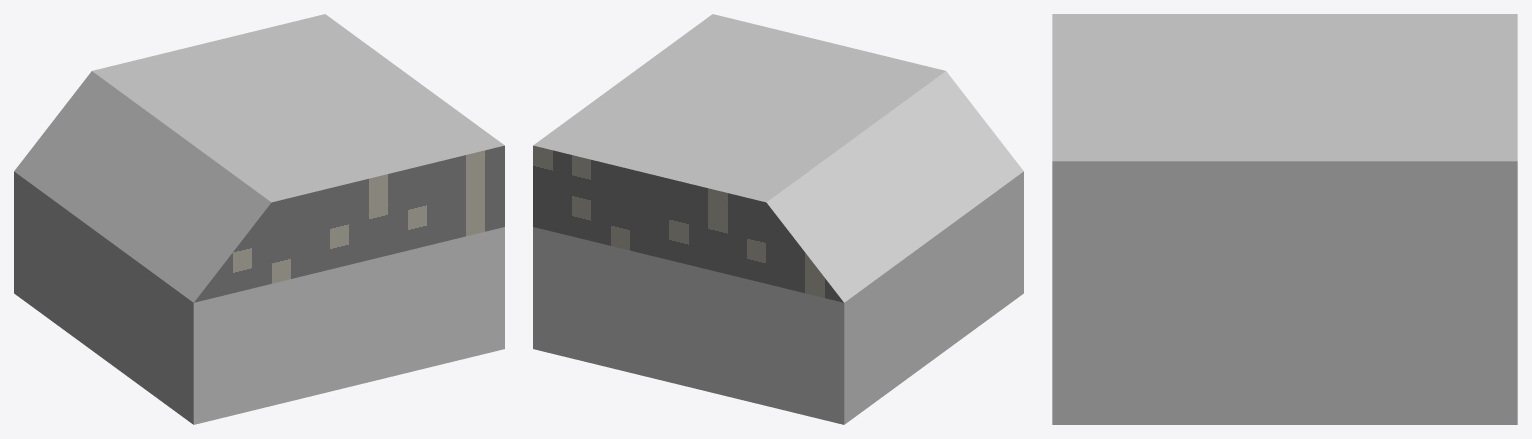
File: slope100_shave12_base6.obj
3 renders of one model, left to right at view 1: azimuth 30°, elevation 25°; view 2: azimuth 150°, elevation 25°; view 3: azimuth 270°, elevation 25°, orthographic. The views are drawn at different scales.
Size of the model in its own units: 1 by 0.625 by 1.
